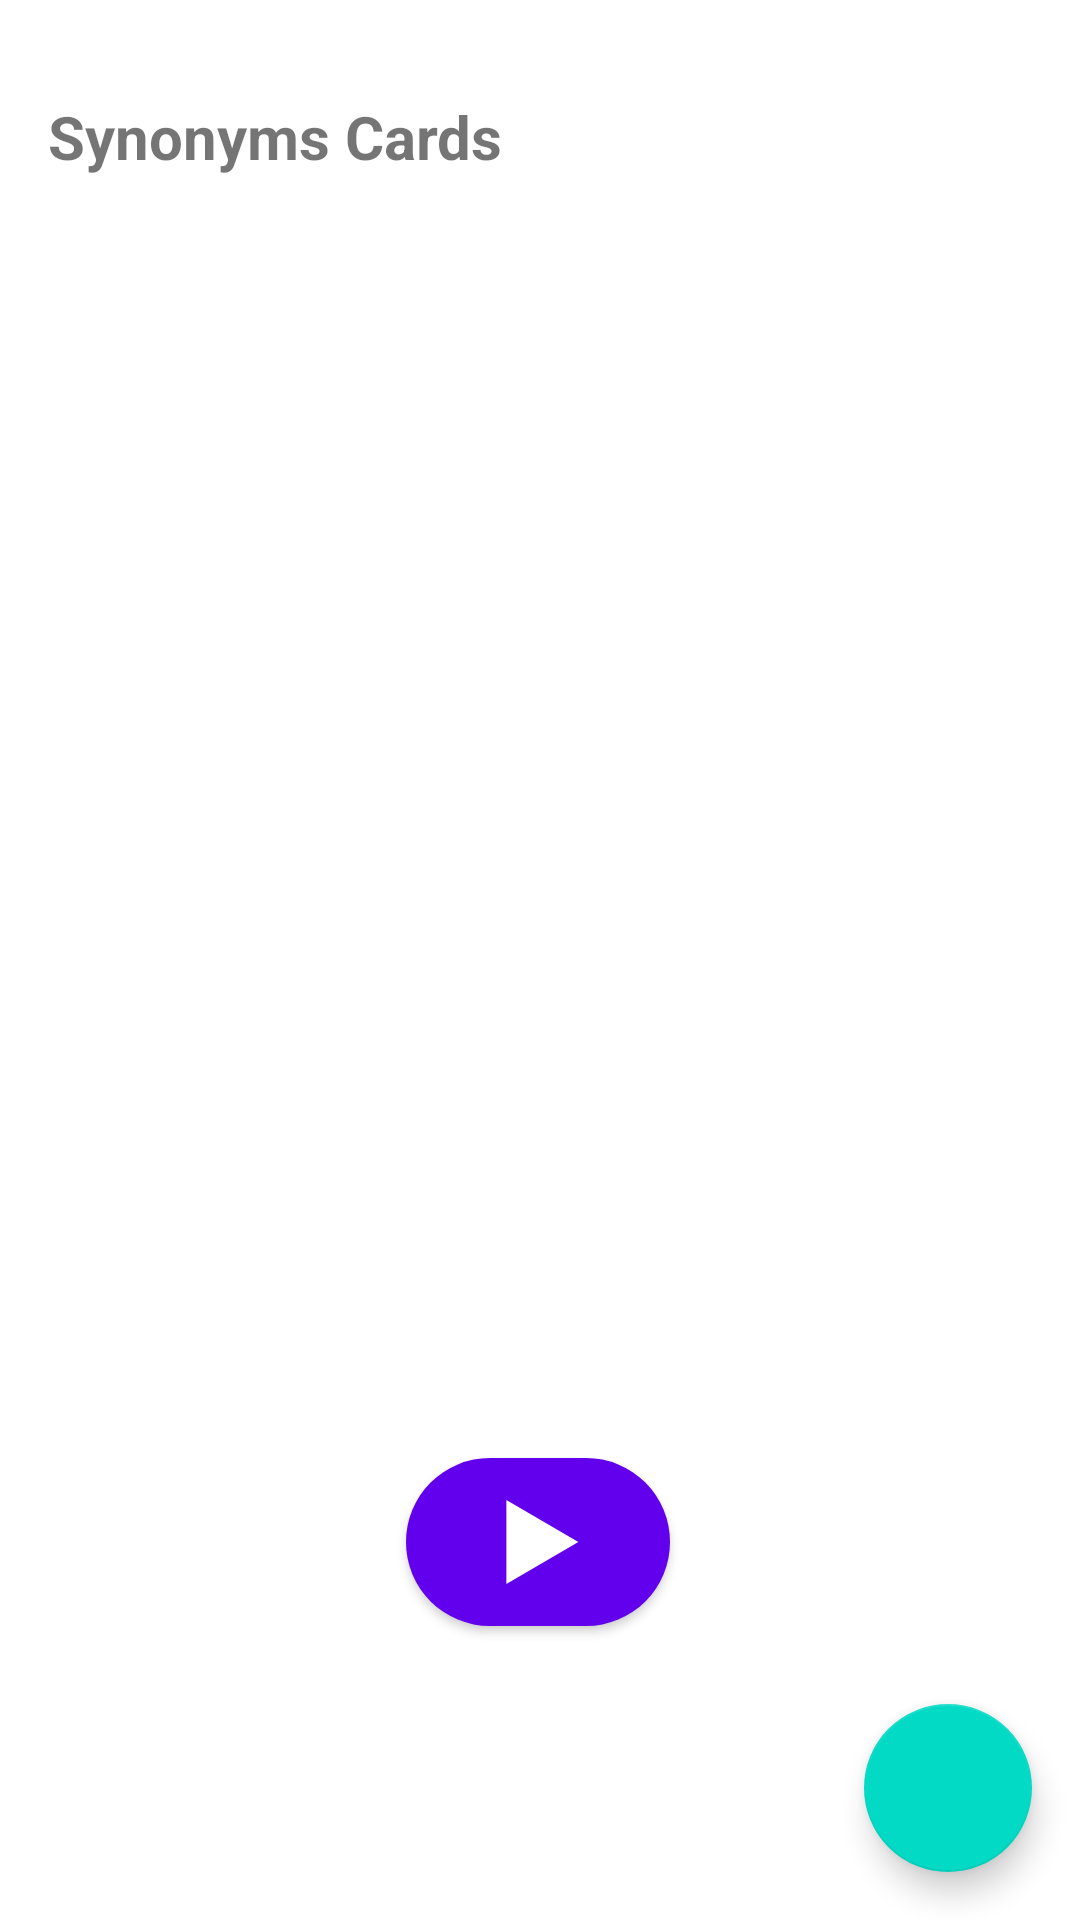

Named icons in this screenshot (1080x1920) and their bounding boxes, (x1, y1, x2, y2):
play arrow: (406, 1458, 670, 1631)
